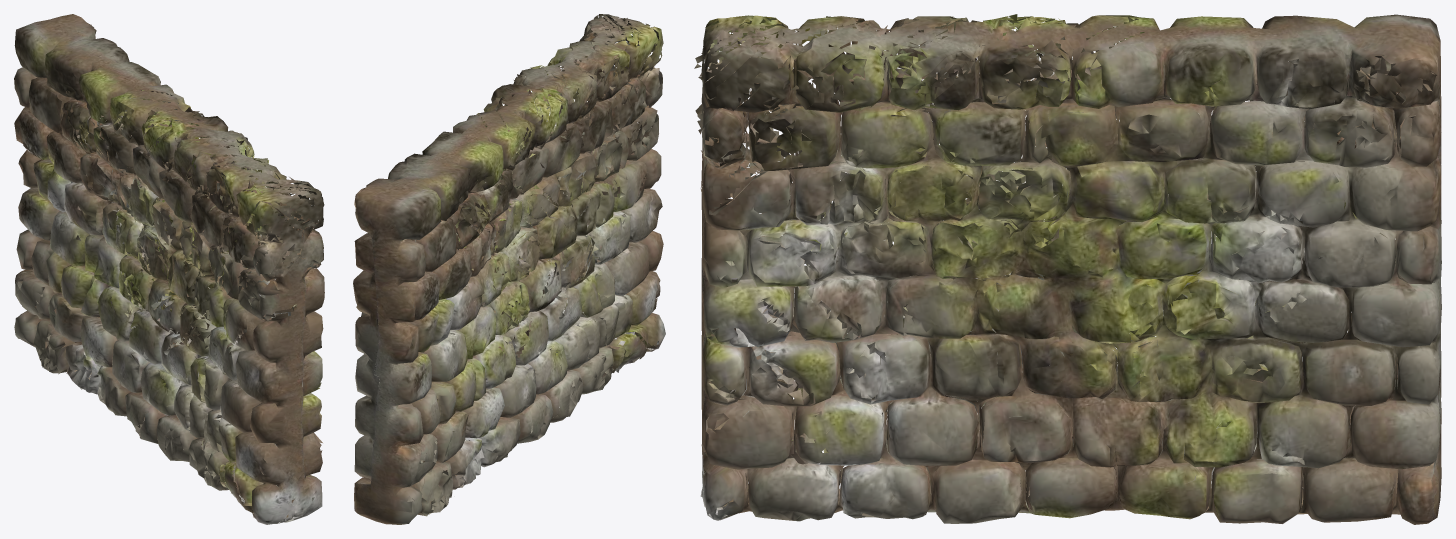
File: wall_ruins.glb
The picture shows the model from 3 angles, left to right: view 1: azimuth 30°, elevation 25°; view 2: azimuth 150°, elevation 25°; view 3: azimuth 270°, elevation 25°; orthographic projection. The views are drawn at different scales.
Parts seen in each view (by area): view 1: Object_2, Object_3; view 2: Object_2, Object_3; view 3: Object_2, Object_3.
Part boxes in pixels (x1,y1,x2,y2): Object_2: (14, 14, 324, 524); Object_3: (20, 90, 324, 522); Object_2: (353, 14, 665, 524); Object_3: (407, 15, 660, 501); Object_2: (701, 14, 1441, 524); Object_3: (694, 14, 1264, 519).
Size of the model in its own units: 0.6394 by 2.87 by 4.
1 material, 1 textured.
